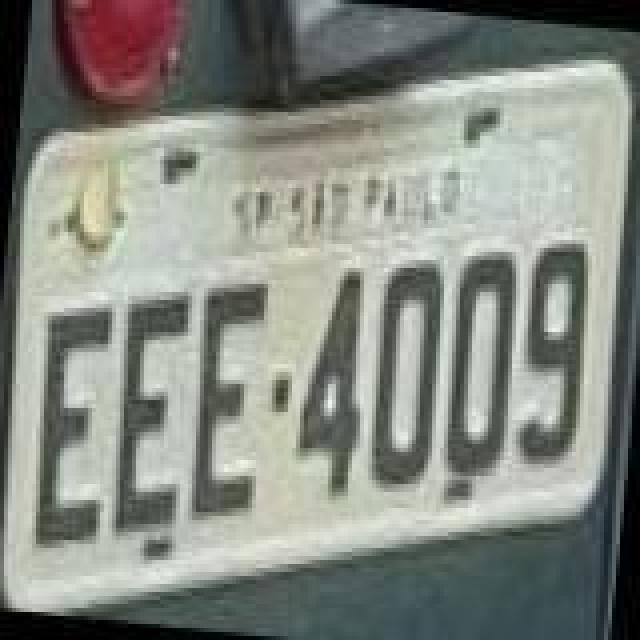4: (294, 262, 378, 498)
9: (506, 234, 598, 470)
E: (22, 296, 122, 560), (104, 288, 200, 544), (180, 274, 276, 526)
O: (362, 256, 454, 496), (434, 246, 526, 482)
